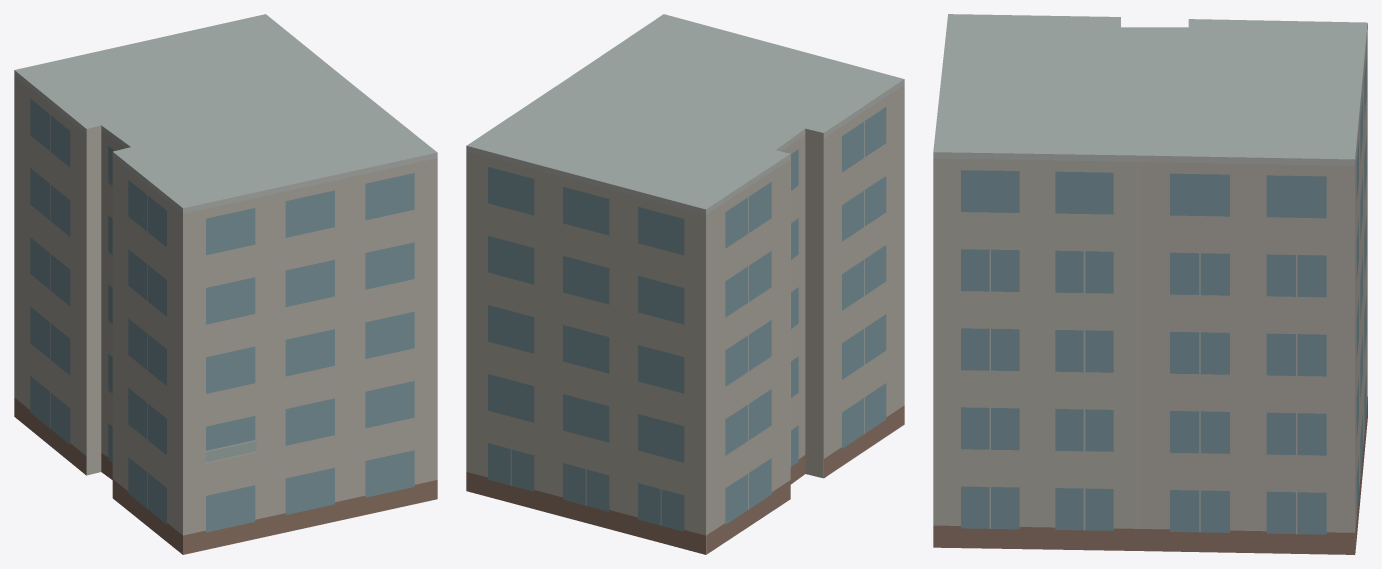
The model's file is survey-upis-33034422.glb.
3 renders of one model, left to right at view 1: azimuth 30°, elevation 25°; view 2: azimuth 150°, elevation 25°; view 3: azimuth 270°, elevation 25°, orthographic. The views are drawn at different scales.
Parts seen in each view (by area): view 1: survey-upis-33034422.tmp; view 2: survey-upis-33034422.tmp; view 3: survey-upis-33034422.tmp.
Part boxes in pixels (x1,y1,x2,y2): survey-upis-33034422.tmp: (14,14,437,554); survey-upis-33034422.tmp: (466,14,904,554); survey-upis-33034422.tmp: (933,14,1367,554).
Bounding box in the file's own units: 12.04 × 15.25 × 15.2.
